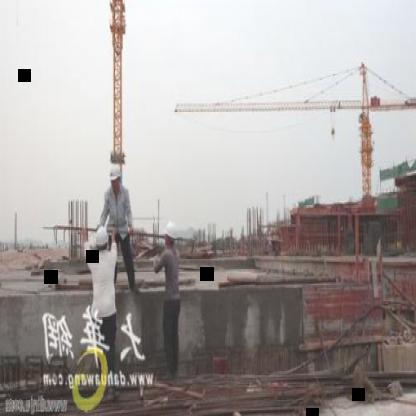helmet: (108, 160, 124, 195), (93, 223, 111, 254), (162, 220, 178, 252)
